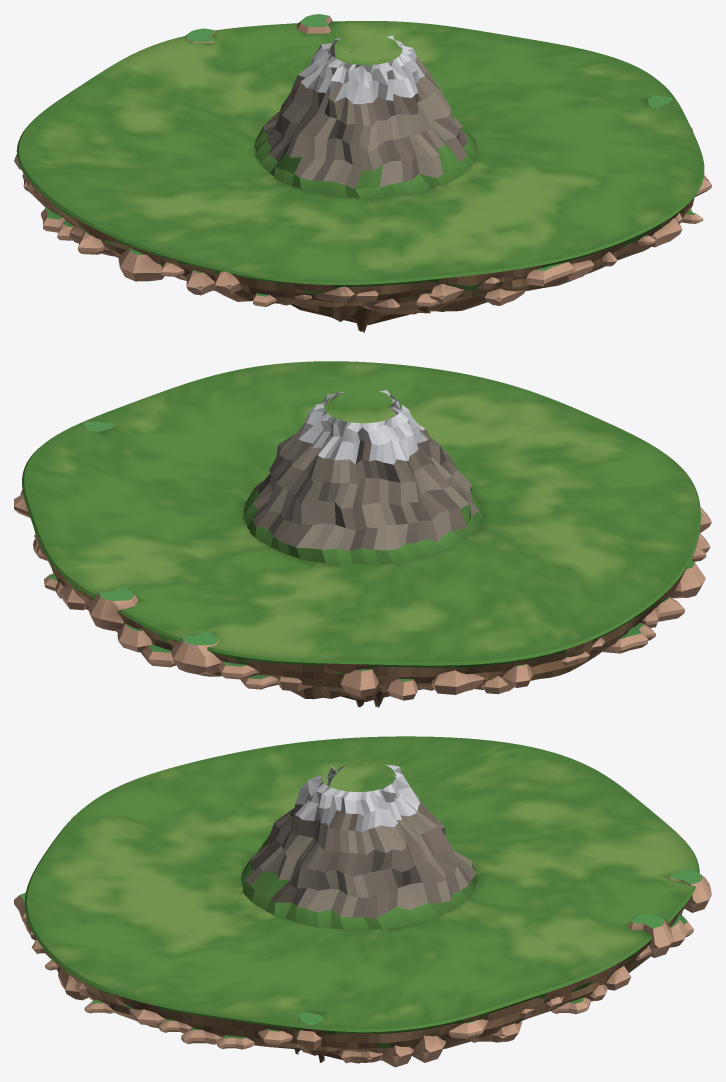
Rendered from olympia-island.glb.
The picture shows the model from 3 angles, top to bottom: view 1: azimuth 30°, elevation 25°; view 2: azimuth 150°, elevation 25°; view 3: azimuth 270°, elevation 25°; orthographic projection. The views are drawn at different scales.
Visible parts, largest first — view 1: IslandTop, Mountain, IslandSides; view 2: IslandTop, Mountain, IslandSides; view 3: IslandTop, Mountain, IslandSides.
Part boxes in pixels (bbox=[...]): IslandTop: bbox=[19, 21, 702, 282]; Mountain: bbox=[254, 35, 477, 198]; IslandSides: bbox=[14, 14, 711, 332]; IslandTop: bbox=[24, 361, 698, 662]; Mountain: bbox=[243, 390, 484, 565]; IslandSides: bbox=[14, 421, 711, 707]; IslandTop: bbox=[27, 736, 697, 1028]; Mountain: bbox=[241, 764, 477, 930]; IslandSides: bbox=[14, 812, 711, 1067].
Size of the model in its own units: 67.17 by 29.8 by 66.31.
